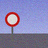sign: (5, 12, 20, 41)
